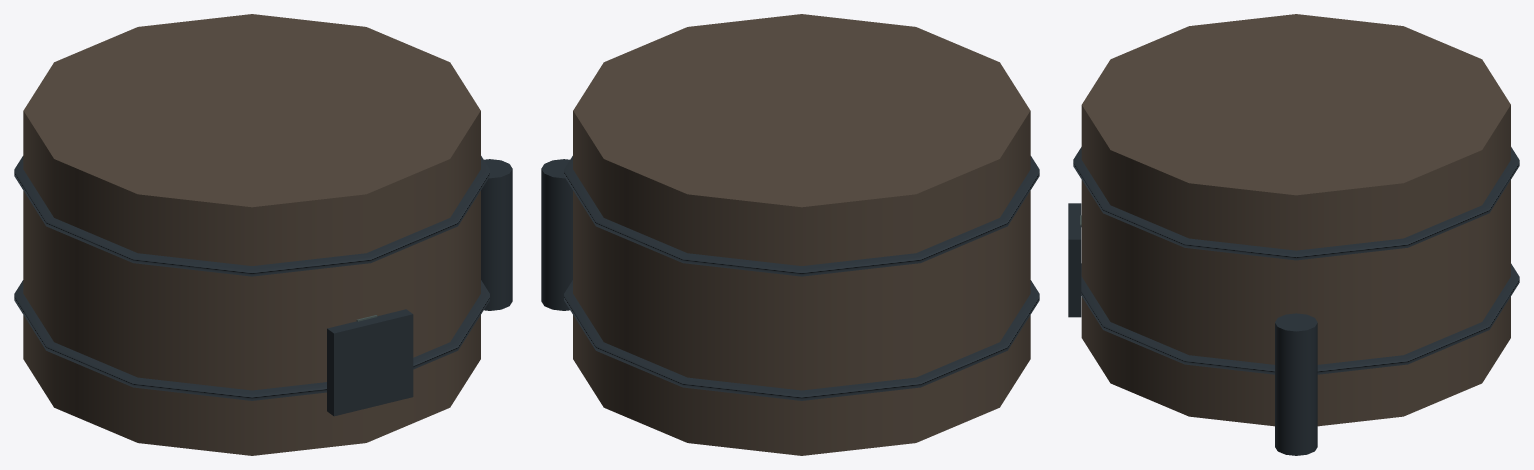
File: vat-3.glb
3 views of the same model, side by side, from view 1: azimuth 30°, elevation 25°; view 2: azimuth 150°, elevation 25°; view 3: azimuth 270°, elevation 25° (orthographic). The views are drawn at different scales.
Visible parts, largest first — view 1: vat/2/KR-230-3; view 2: vat/2/KR-230-3; view 3: vat/2/KR-230-3.
Part boxes in pixels (<box>): vat/2/KR-230-3: <box>14,14,512,455</box>; vat/2/KR-230-3: <box>541,14,1039,455</box>; vat/2/KR-230-3: <box>1068,14,1519,455</box>.
Bounding box in the file's own units: 5.85 × 3 × 5.25.
